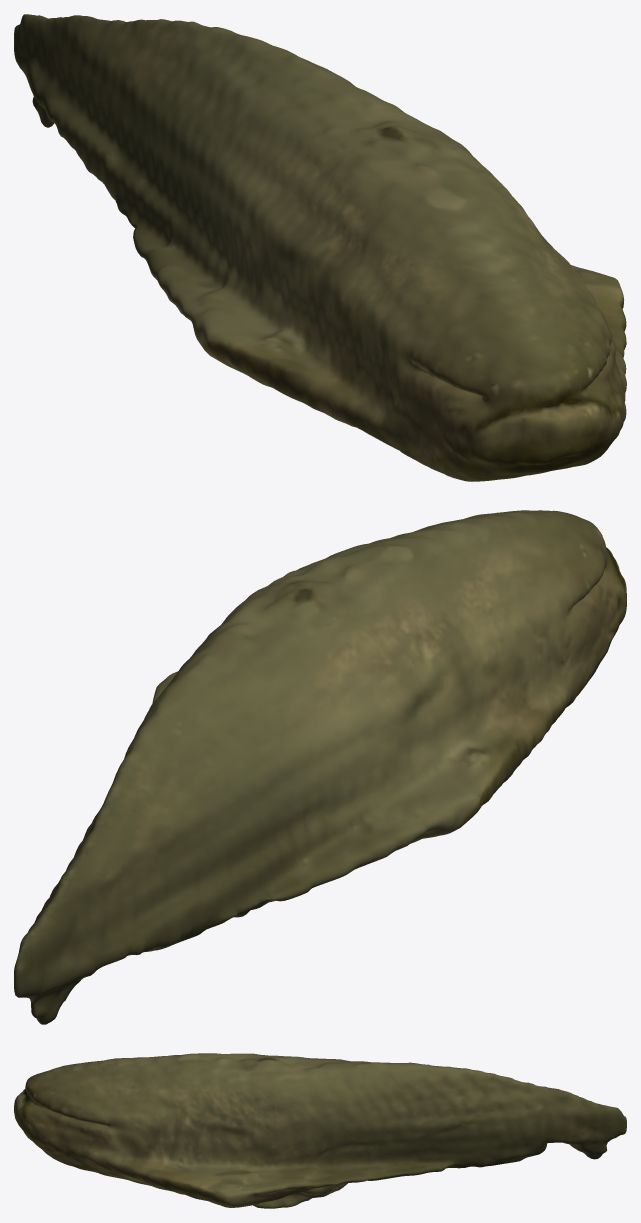
Rendered from silure.glb.
The picture shows the model from 3 angles, top to bottom: view 1: azimuth 30°, elevation 25°; view 2: azimuth 150°, elevation 25°; view 3: azimuth 270°, elevation 25°; orthographic projection. The views are drawn at different scales.
Visible parts, largest first — view 1: raw.ply; view 2: raw.ply; view 3: raw.ply.
Boxes of the visible parts, <box> form: raw.ply: <box>14,14,626,481</box>; raw.ply: <box>14,510,626,1024</box>; raw.ply: <box>14,1053,626,1208</box>.
Bounding box in the file's own units: 143 × 95.22 × 384.
